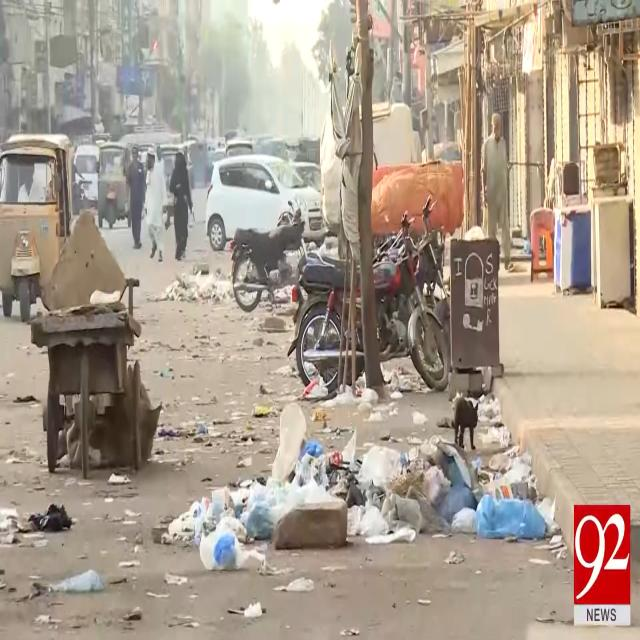high trash: (162, 396, 559, 573)
less trash: (0, 504, 72, 547), (302, 373, 379, 407), (159, 273, 234, 301), (382, 364, 430, 400), (260, 287, 296, 333), (49, 569, 104, 593)
